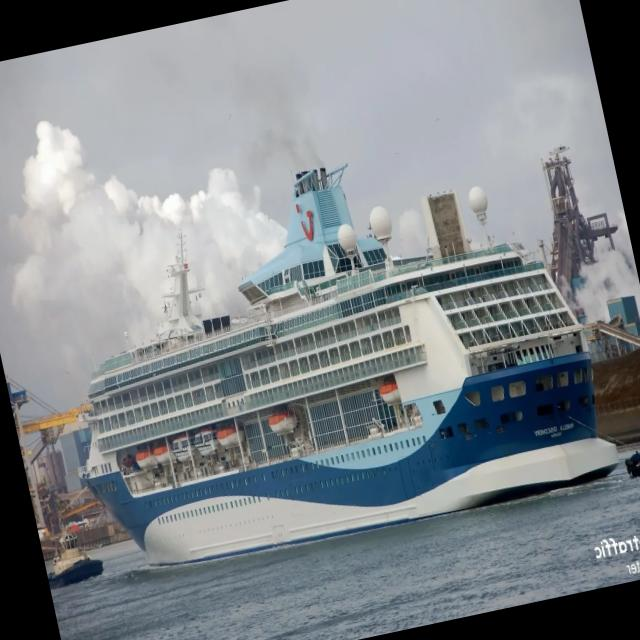Cruise: (83, 164, 618, 564), (469, 186, 487, 223)
